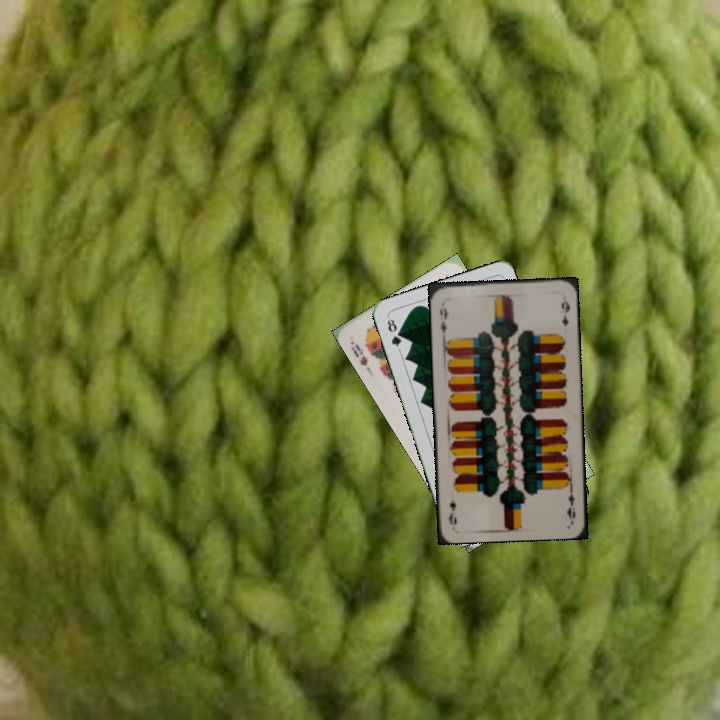E9: (561, 482, 578, 522), (436, 298, 451, 335)
G8: (383, 313, 404, 352)
S8: (351, 340, 370, 368)
